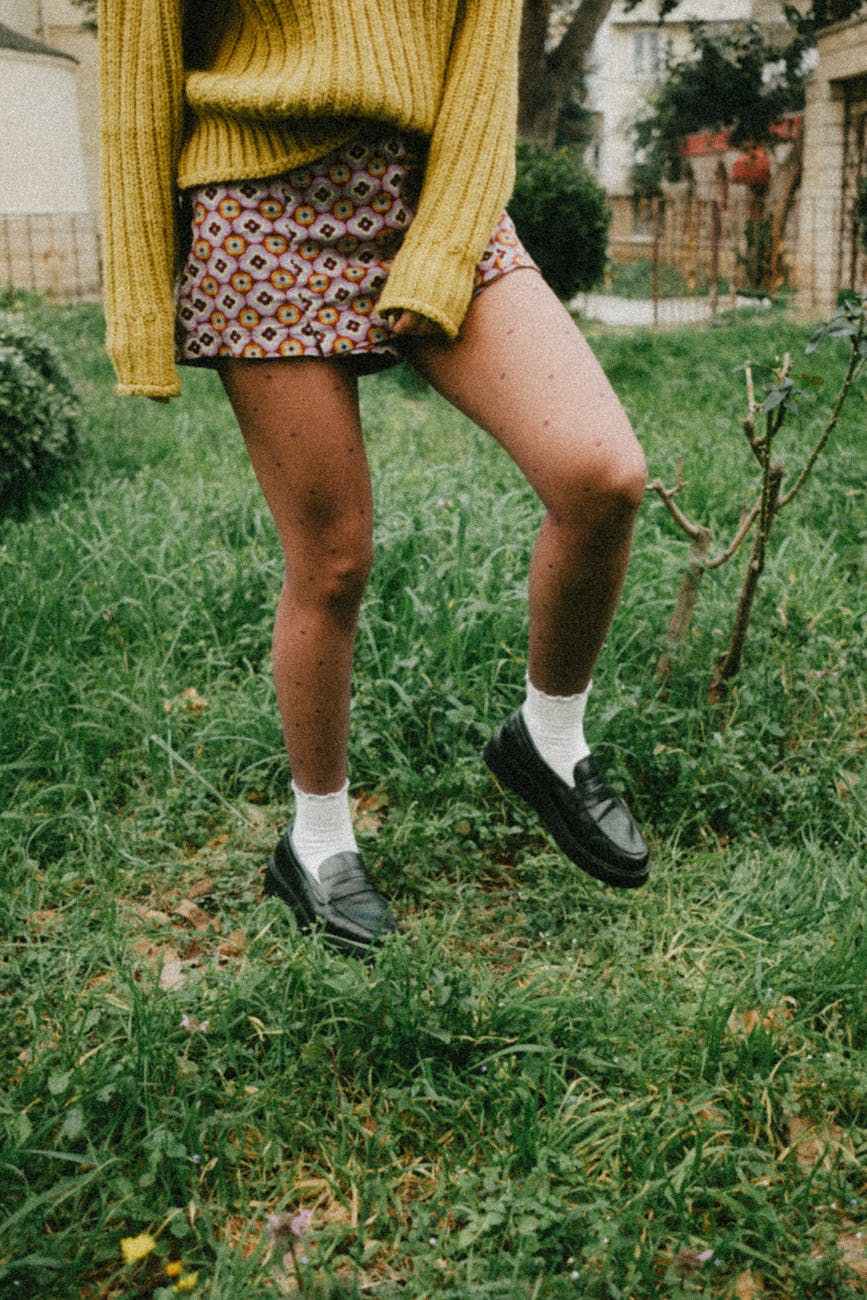short_medium_skirt: (154, 167, 558, 376)
